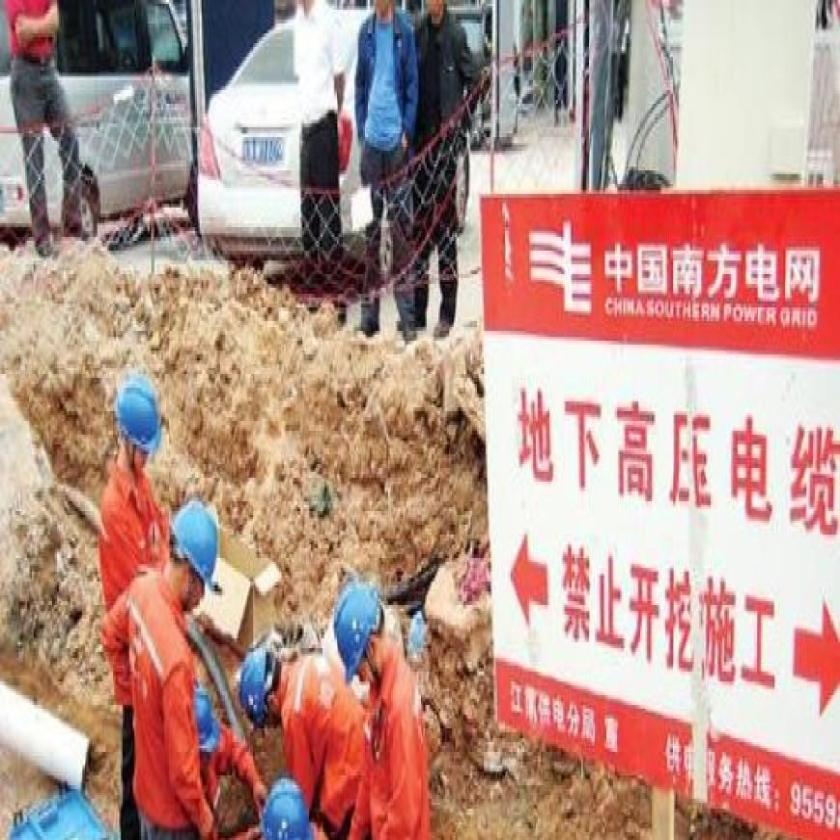Con_casco: (167, 496, 221, 623), (336, 588, 394, 704), (110, 369, 166, 482), (235, 641, 287, 731)
